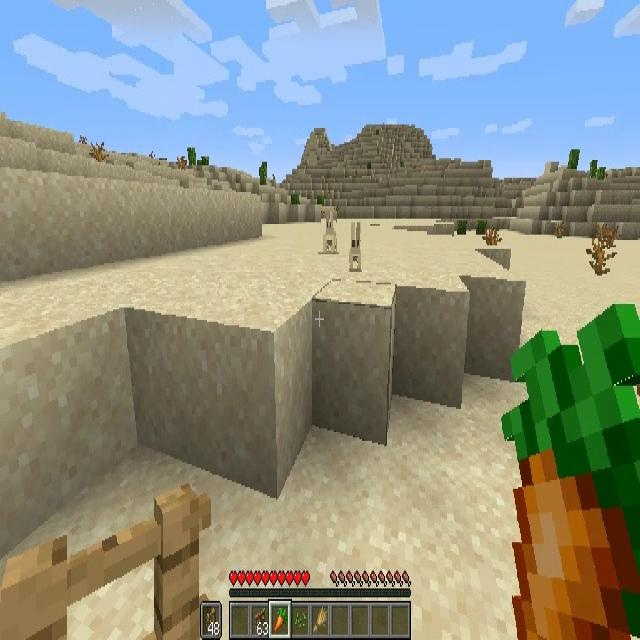rabbit: (347, 220, 361, 272), (321, 211, 337, 254)
